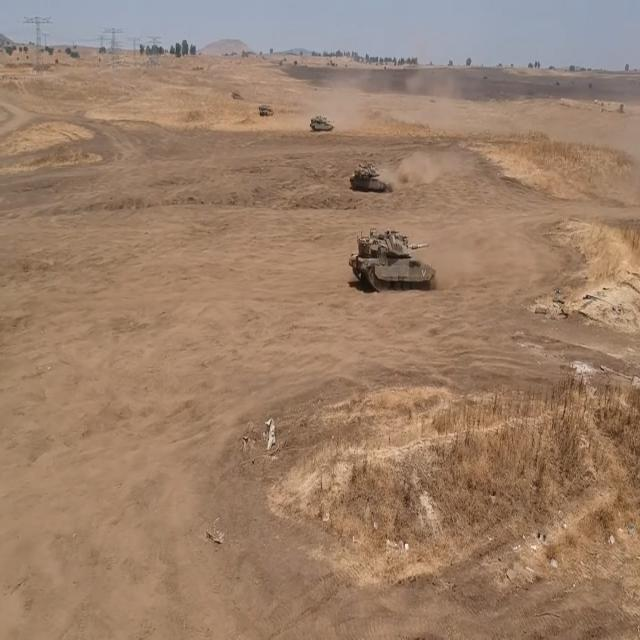tank: (344, 226, 442, 290), (348, 148, 389, 199), (307, 111, 337, 136), (255, 98, 275, 120)
